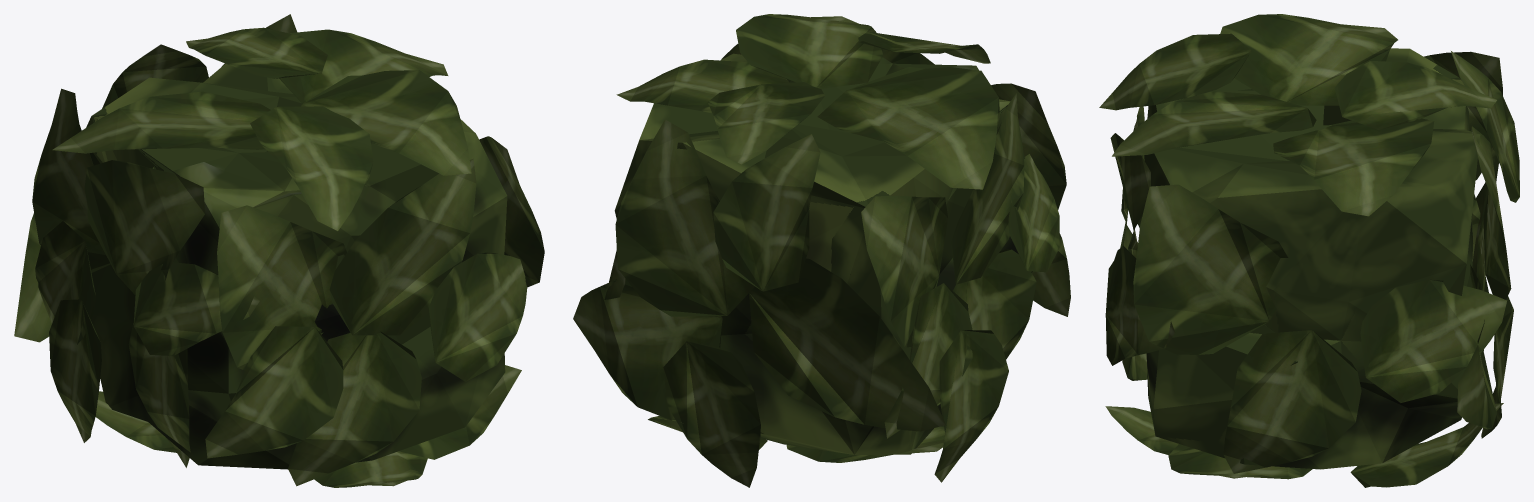
The model's file is bushandleafs.fbx.
3 renders of one model, left to right at view 1: azimuth 30°, elevation 25°; view 2: azimuth 150°, elevation 25°; view 3: azimuth 270°, elevation 25°, orthographic. The views are drawn at different scales.
Visible parts, largest first — view 1: bushbase_LP.001; view 2: bushbase_LP.001; view 3: bushbase_LP.001.
Boxes of the visible parts, box(x1,y1,x2,y2) form: bushbase_LP.001: box(14, 14, 544, 487); bushbase_LP.001: box(573, 14, 1070, 487); bushbase_LP.001: box(1099, 14, 1519, 487).
Bounding box in the file's own units: 1.31 × 1.22 × 1.18.
